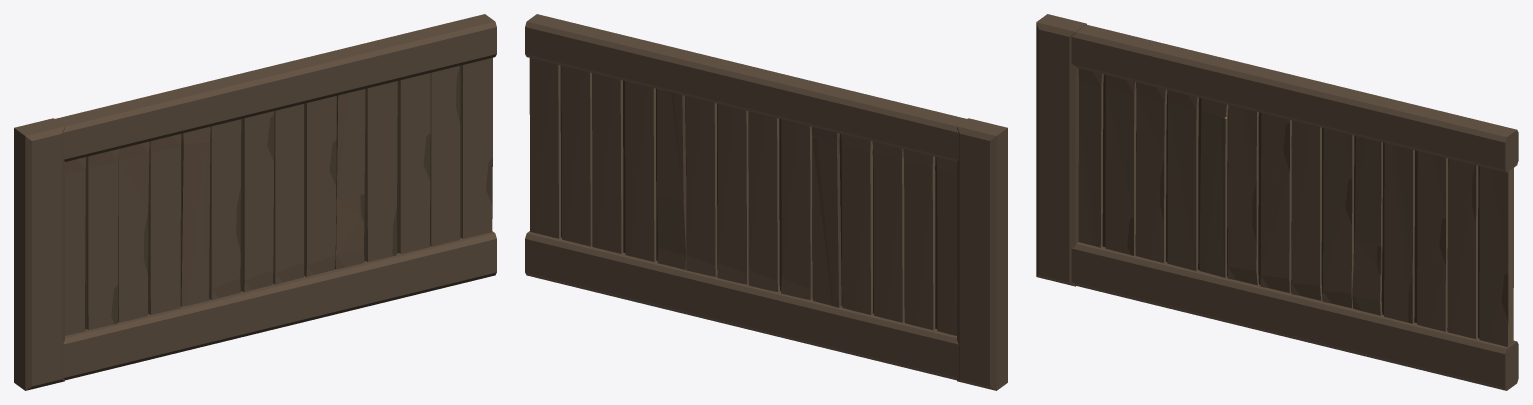
The model's file is BG_woodfence_06.fbx.
3 views of the same model, side by side, from view 1: azimuth 30°, elevation 25°; view 2: azimuth 150°, elevation 25°; view 3: azimuth 330°, elevation 25° (orthographic).
Visible parts, largest first — view 1: BG_woodfence_06; view 2: BG_woodfence_06; view 3: BG_woodfence_06.
Boxes of the visible parts, x1,y1,x2,y2 form: BG_woodfence_06: (14,14,496,390); BG_woodfence_06: (525,14,1007,390); BG_woodfence_06: (1036,14,1518,390).
Size of the model in its own units: 41.52 by 21.49 by 2.28.
Materials: 1 (1 with a texture image).
